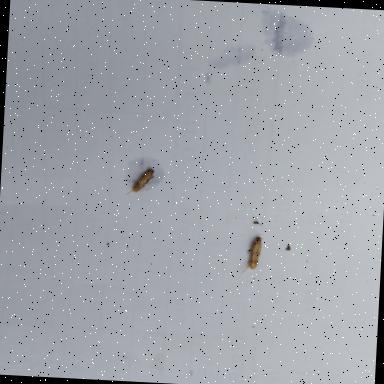pbw: (240, 235, 263, 275), (126, 166, 155, 196)
